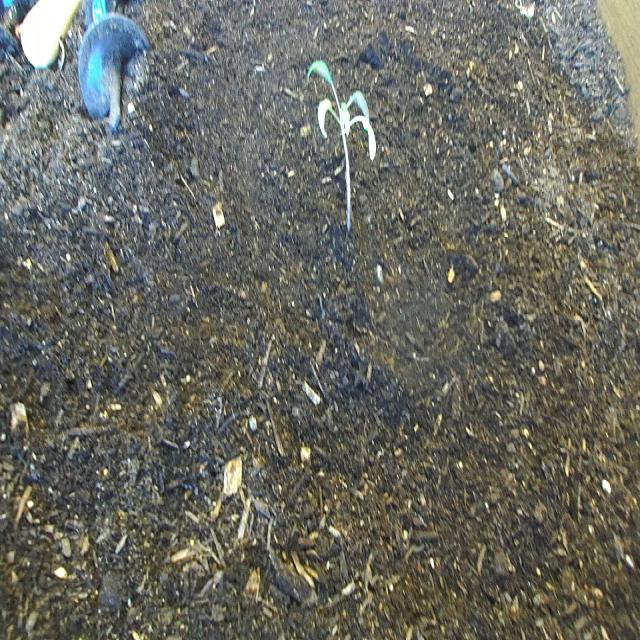Unhealthy: (304, 52, 381, 244)
